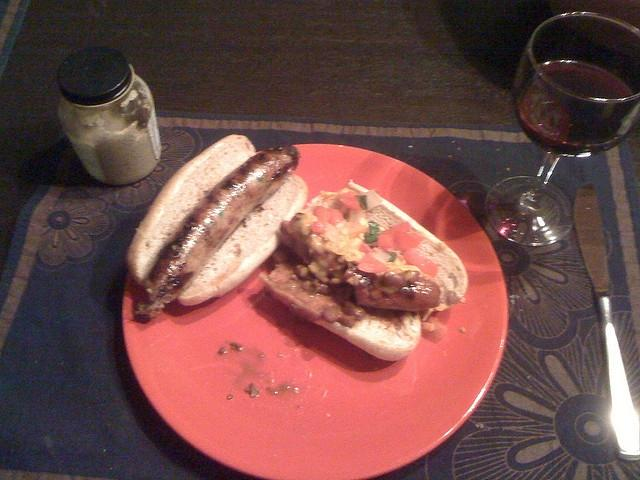tomato: (403, 248, 438, 277), (356, 252, 389, 272), (313, 206, 345, 226), (335, 191, 363, 211), (394, 233, 424, 251), (309, 221, 325, 234), (394, 222, 410, 234)
